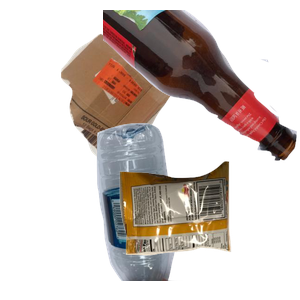cardboard: (58, 31, 222, 188)
glass: (103, 10, 300, 163)
plastic: (94, 120, 267, 300)
trash: (117, 159, 300, 300)
